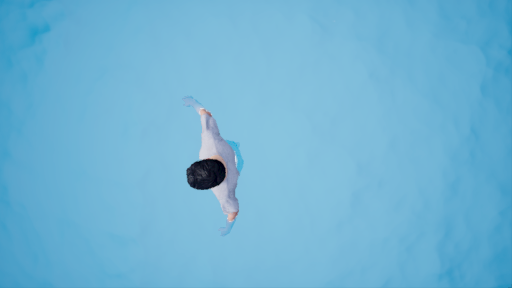person: (176, 92, 258, 229)
